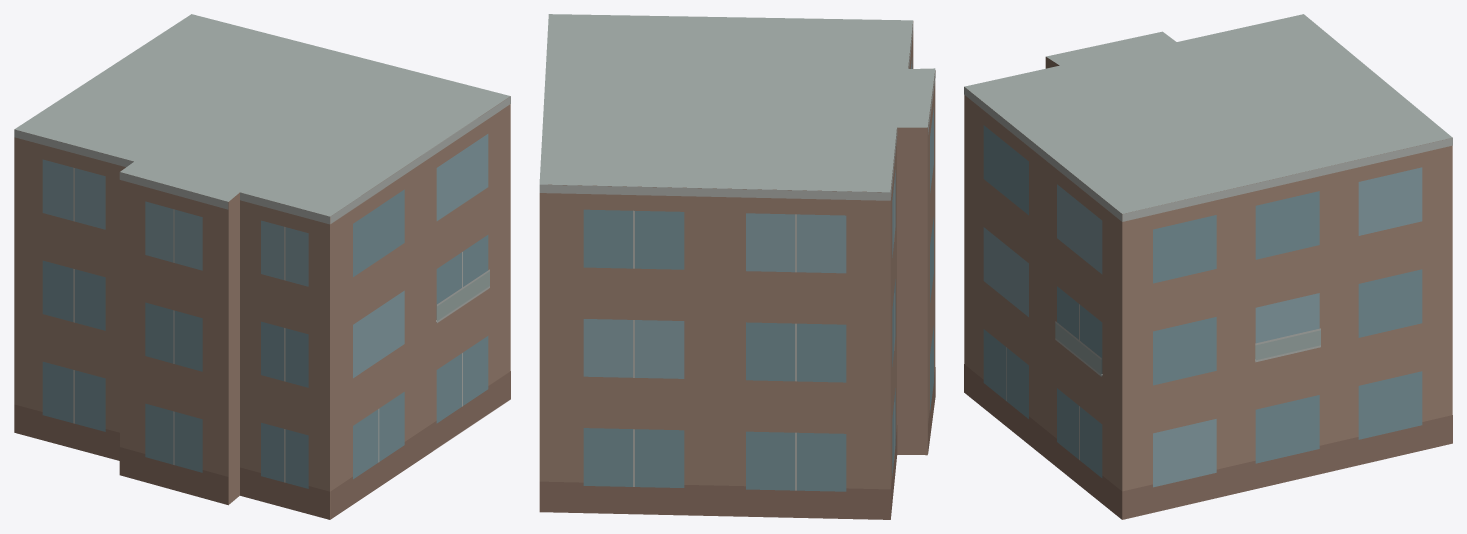
File: survey-upis-33012721.glb
3 renders of one model, left to right at view 1: azimuth 30°, elevation 25°; view 2: azimuth 150°, elevation 25°; view 3: azimuth 270°, elevation 25°, orthographic. The views are drawn at different scales.
Parts seen in each view (by area): view 1: survey-upis-33012721.tmp; view 2: survey-upis-33012721.tmp; view 3: survey-upis-33012721.tmp.
Part boxes in pixels (x1,y1,x2,y2): survey-upis-33012721.tmp: (14, 14, 510, 519); survey-upis-33012721.tmp: (539, 14, 935, 519); survey-upis-33012721.tmp: (964, 14, 1452, 519).
Size of the model in its own units: 13.2 by 9.4 by 13.62.
